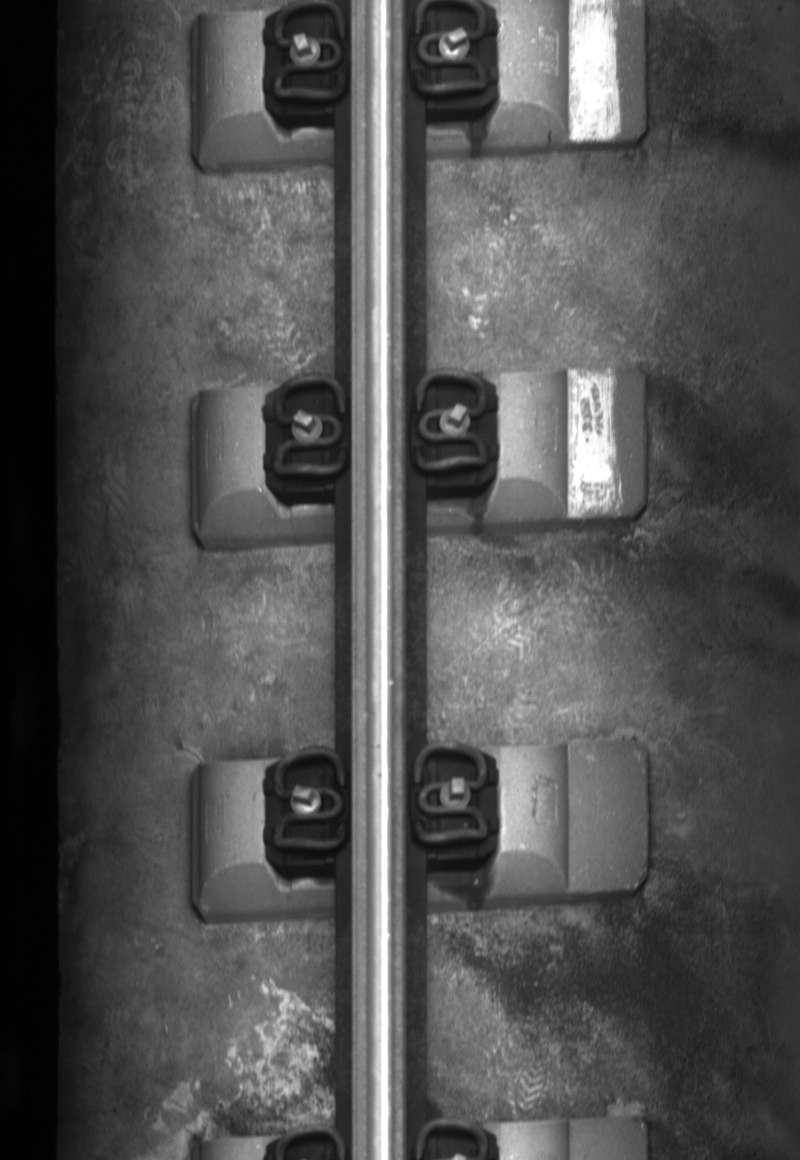l_faster: (267, 369, 350, 483), (269, 743, 350, 854), (267, 0, 349, 104)
r_faster: (407, 737, 493, 854), (408, 362, 493, 480), (407, 0, 494, 101)
